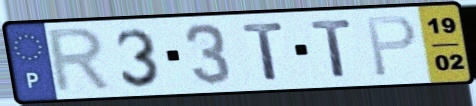3: (183, 20, 235, 88), (113, 26, 161, 89)
P: (364, 13, 419, 80)
R: (45, 25, 116, 96)
T: (308, 17, 356, 80), (240, 20, 288, 83)
